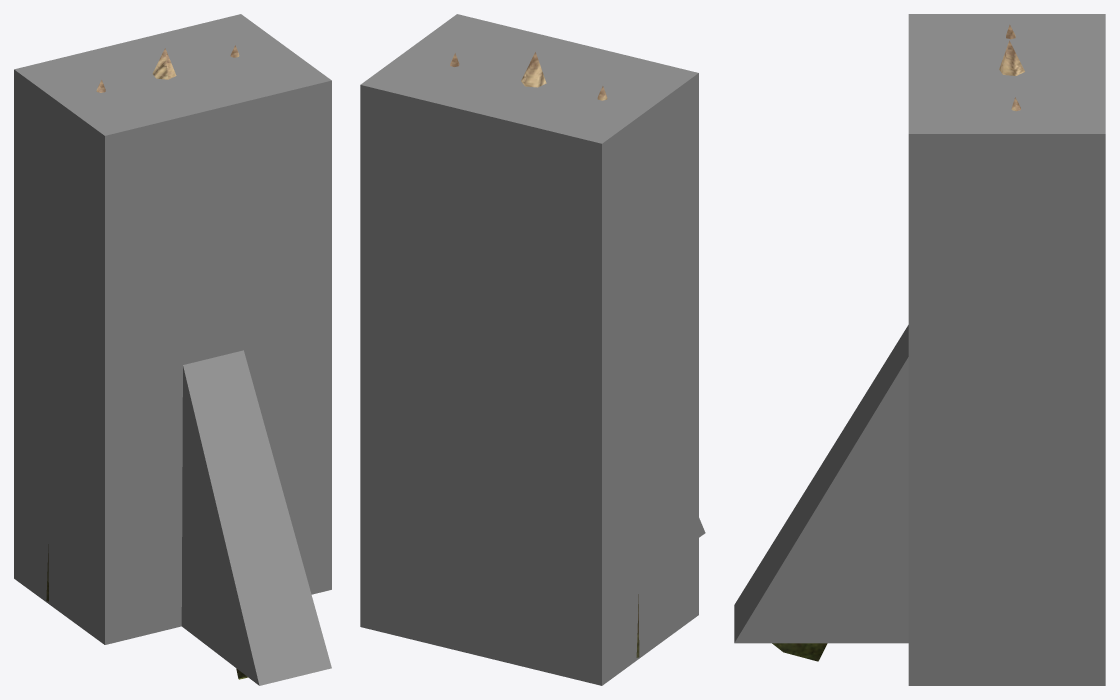
The model's file is Scene_Build_XuanWuShan_HuLan_2.FBX.
3 renders of one model, left to right at view 1: azimuth 30°, elevation 25°; view 2: azimuth 150°, elevation 25°; view 3: azimuth 270°, elevation 25°, orthographic. The views are drawn at different scales.
Parts seen in each view (by area): view 1: Scene_Build_XuanWuShan_HuLan_2_Xcm, Scene_Build_XuanWuShan_HuLan_2; view 2: Scene_Build_XuanWuShan_HuLan_2_Xcm, Scene_Build_XuanWuShan_HuLan_2; view 3: Scene_Build_XuanWuShan_HuLan_2_Xcm, Scene_Build_XuanWuShan_HuLan_2.
Part boxes in pixels (x1,y1,x2,y2): Scene_Build_XuanWuShan_HuLan_2_Xcm: (14, 14, 331, 685); Scene_Build_XuanWuShan_HuLan_2: (46, 45, 247, 679); Scene_Build_XuanWuShan_HuLan_2_Xcm: (360, 14, 705, 685); Scene_Build_XuanWuShan_HuLan_2: (450, 52, 639, 657); Scene_Build_XuanWuShan_HuLan_2_Xcm: (734, 14, 1105, 685); Scene_Build_XuanWuShan_HuLan_2: (772, 24, 1024, 661).
Size of the model in its own units: 115 by 271 by 149.
